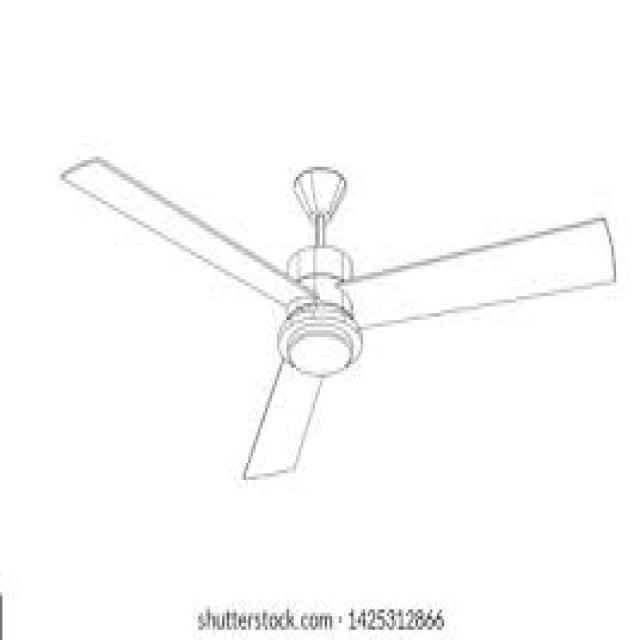fan_off: (60, 153, 627, 479)
